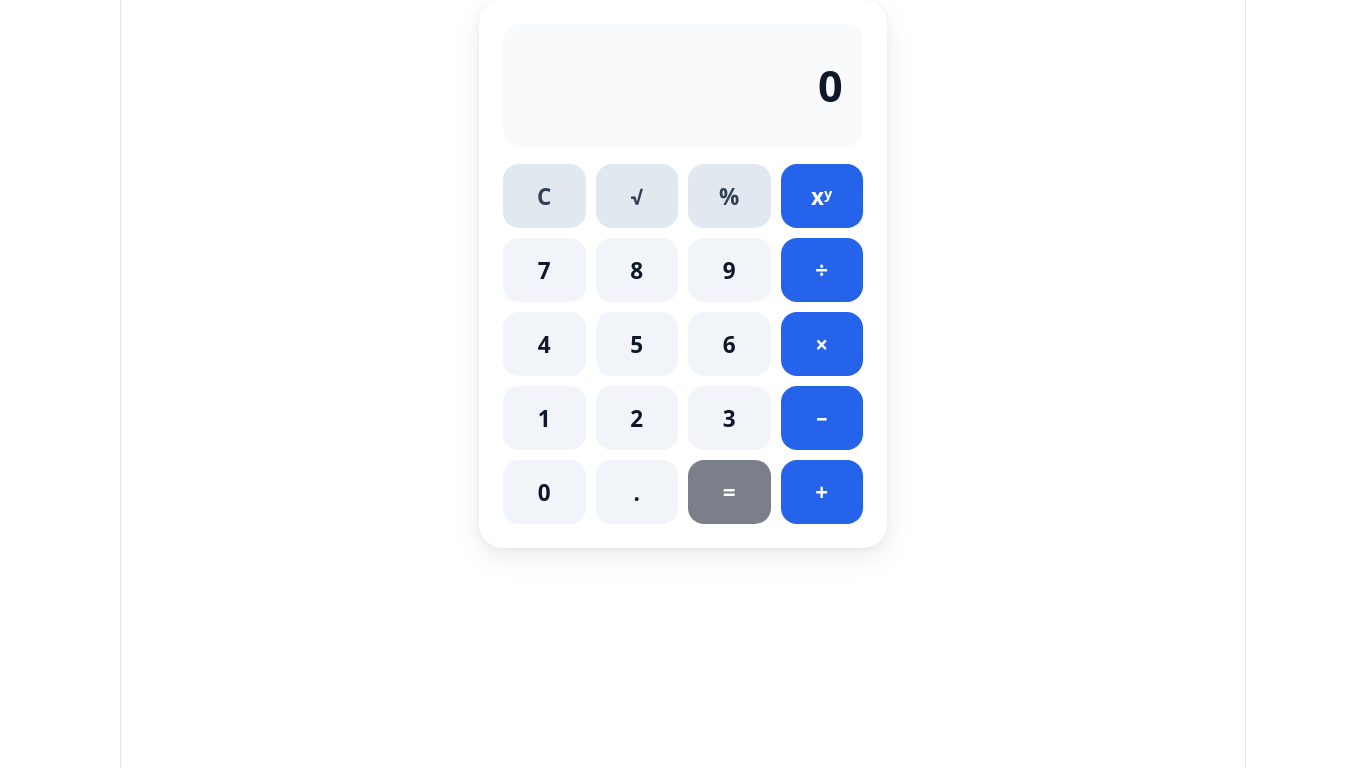
Calculator › allows the user to enter numbers
What coordinates should you click on to do the following:
click the button "1"
I would click on:
 (544, 418)
Its box is 503,386 -> 586,450.
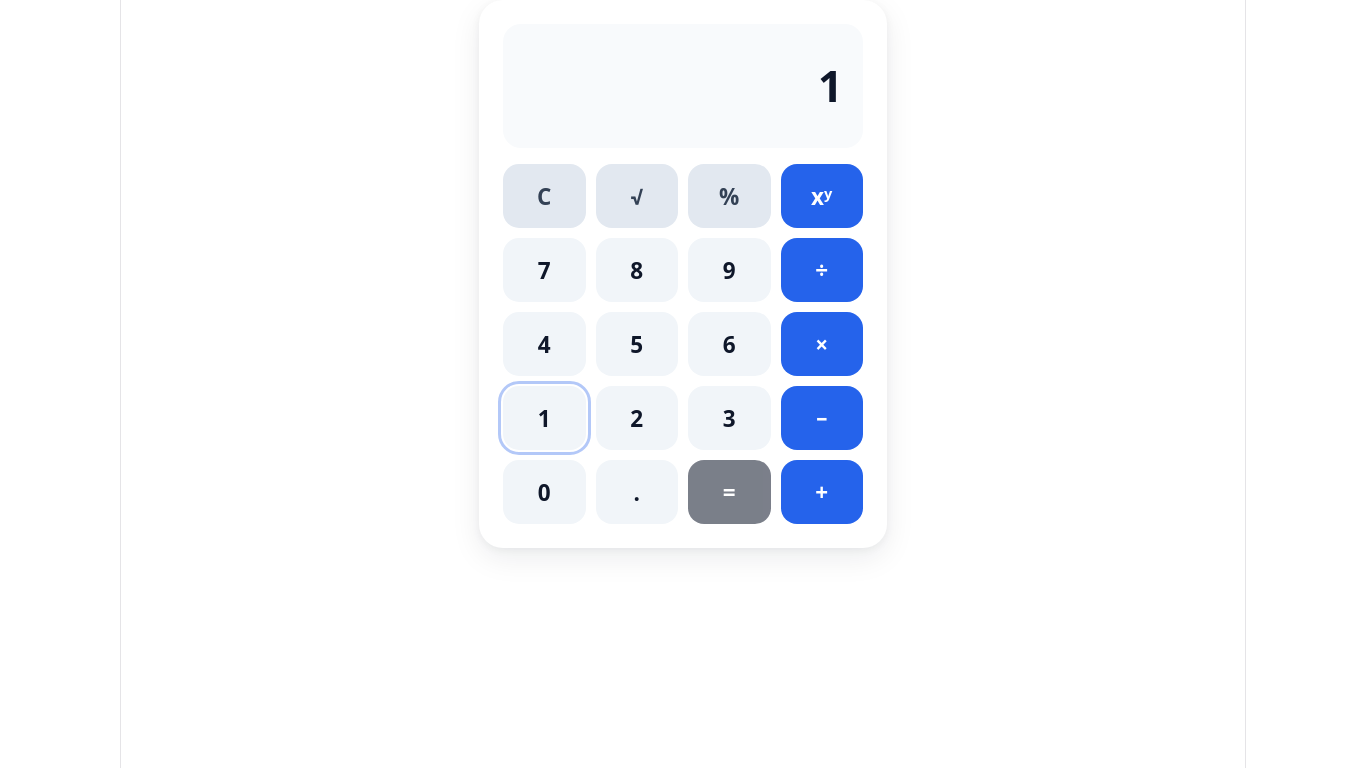
What coordinates should you click on to do the following:
click the button "2"
I would click on:
 (637, 418)
Its box is 596,386 -> 678,450.
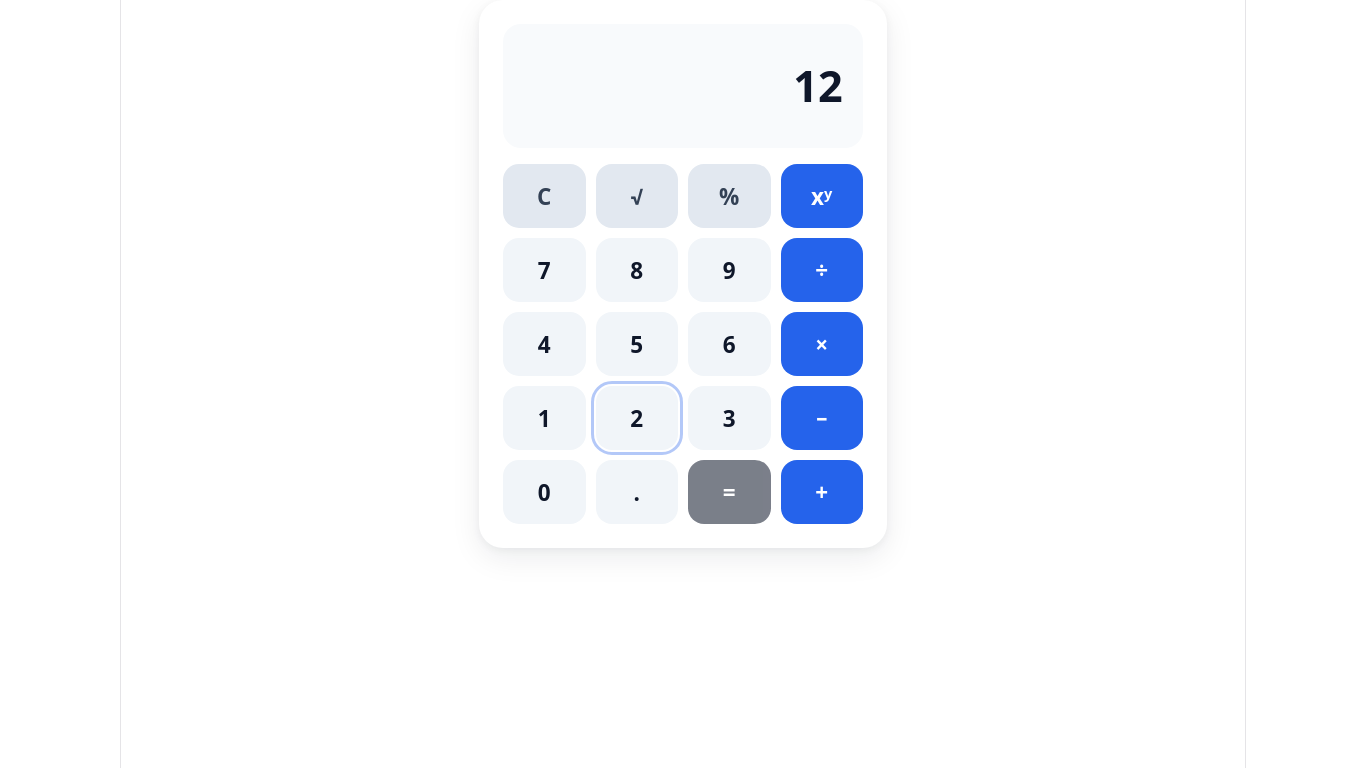
Now the text with class "calculator-display" reads "12", box 793,56 -> 843,115
